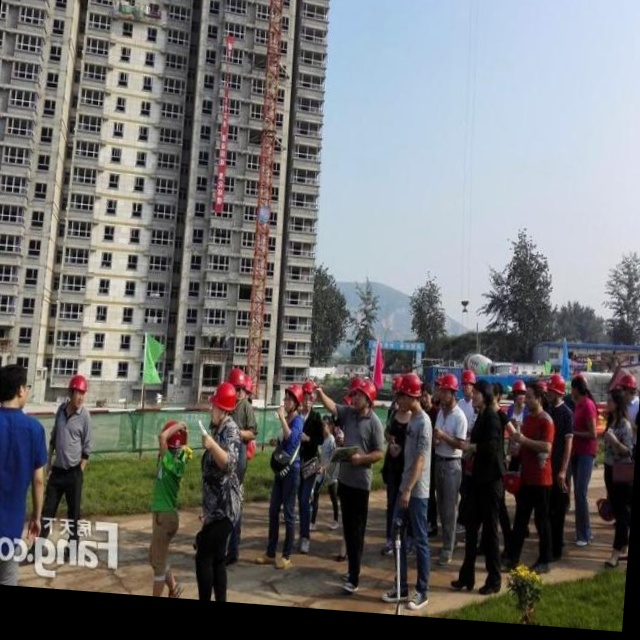Con_Casco: (208, 382, 238, 424), (397, 371, 421, 409), (68, 373, 88, 408)
Sin_Casco_Mascarrilla: (0, 363, 31, 411)
